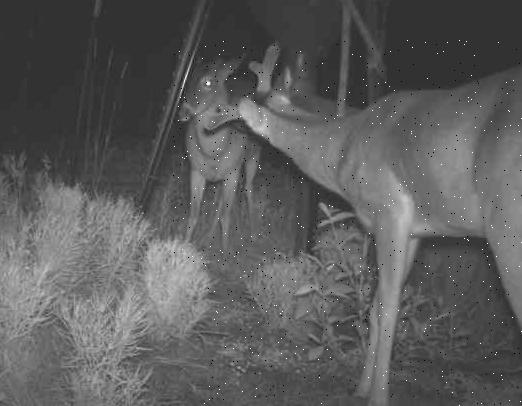Deer: (204, 39, 522, 406), (173, 52, 270, 268)
